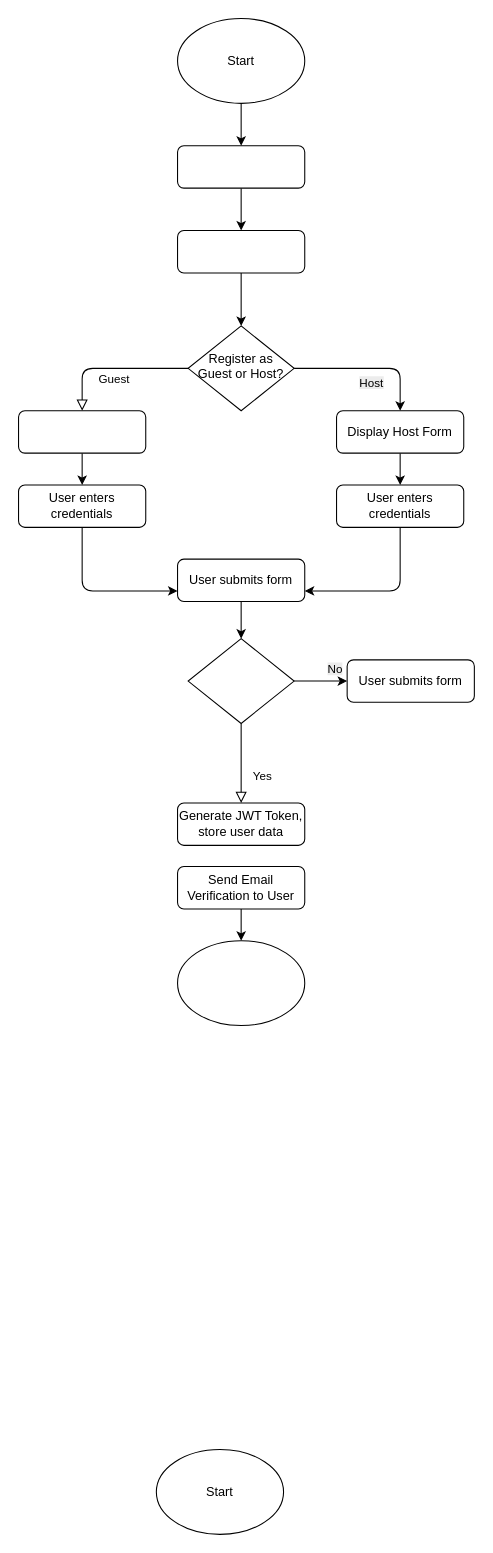
This 493x1553 diagram has some shape labels left out. Each missing label, with the centre of its shape:
Display Guest Form: point 81,431
End: point 240,983
Form valid: point 240,680
User clicks 'Register': point 240,251
User visits website: point 240,166
